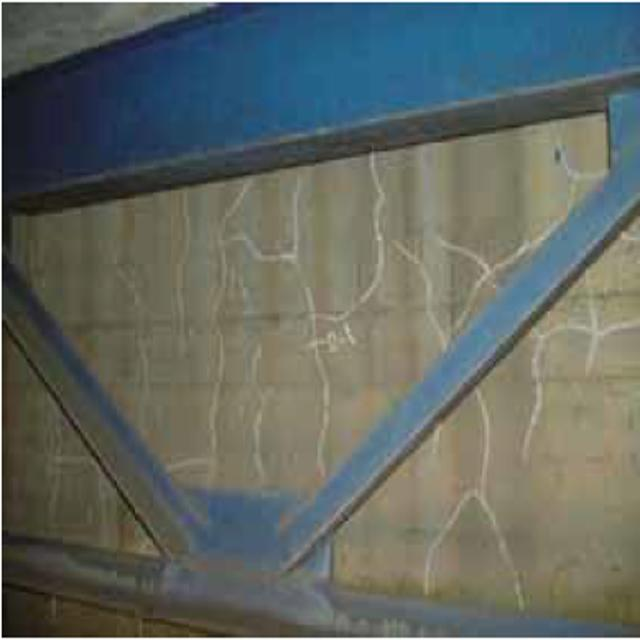crack: (219, 188, 477, 346), (428, 392, 553, 624), (560, 294, 640, 363)
